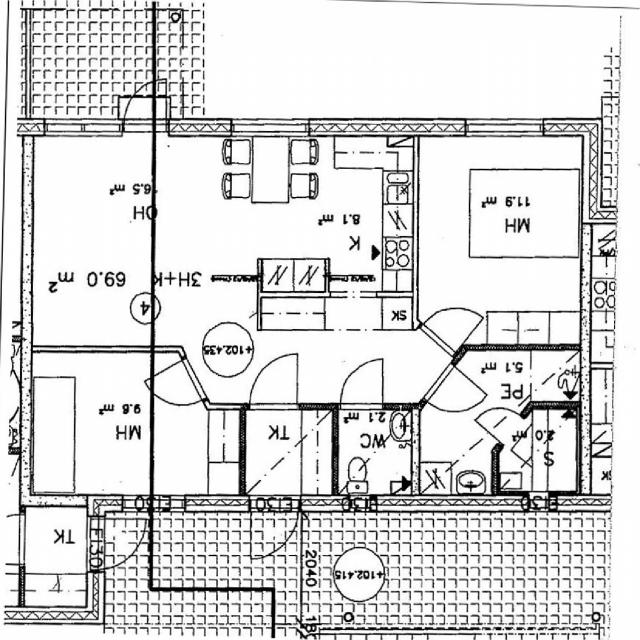door: (423, 362, 488, 430), (419, 290, 482, 357), (144, 357, 207, 420), (250, 495, 299, 563), (474, 393, 525, 446), (249, 353, 297, 409), (124, 74, 166, 132), (340, 359, 382, 409)
